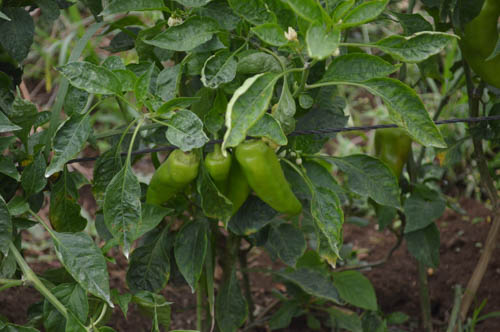ChiliPepper: (240, 143, 305, 214), (371, 125, 415, 201), (144, 156, 197, 205), (206, 156, 232, 207)
